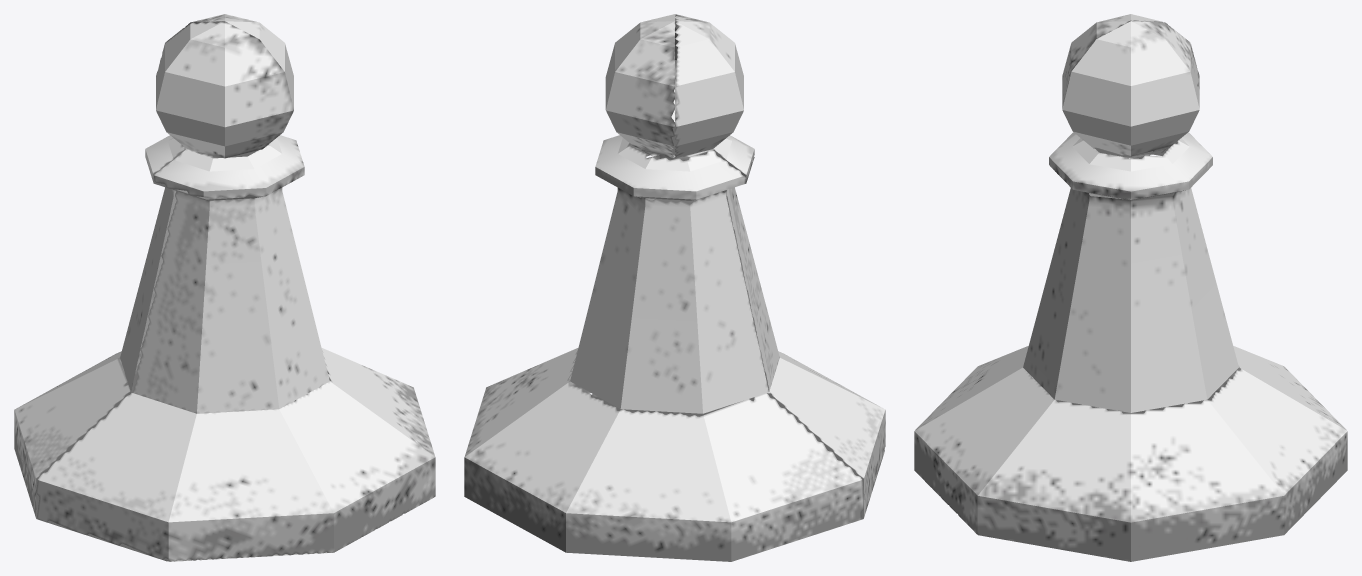
File: Peon_Pieza.fbx
The picture shows the model from 3 angles, left to right: view 1: azimuth 30°, elevation 25°; view 2: azimuth 150°, elevation 25°; view 3: azimuth 270°, elevation 25°; orthographic projection.
Parts seen in each view (by area): view 1: Peon_Pieza; view 2: Peon_Pieza; view 3: Peon_Pieza.
Part boxes in pixels (bbox=[...]): Peon_Pieza: bbox=[14, 14, 435, 561]; Peon_Pieza: bbox=[464, 14, 885, 561]; Peon_Pieza: bbox=[914, 14, 1347, 561].
Bounding box in the file's own units: 22.01 × 25.17 × 22.01.
